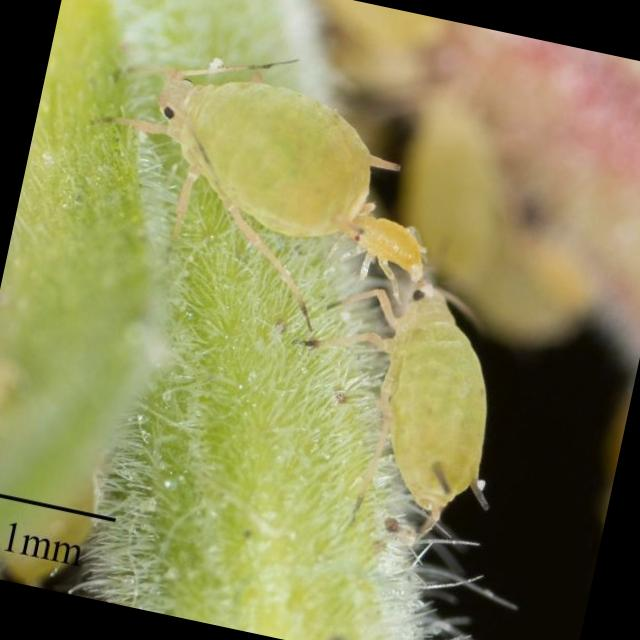aphid: (63, 28, 415, 340), (300, 254, 572, 592)
